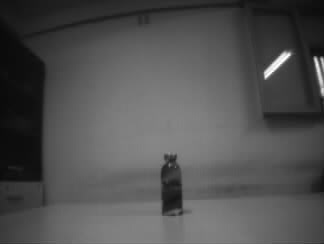Bottle: (158, 151, 184, 217)
